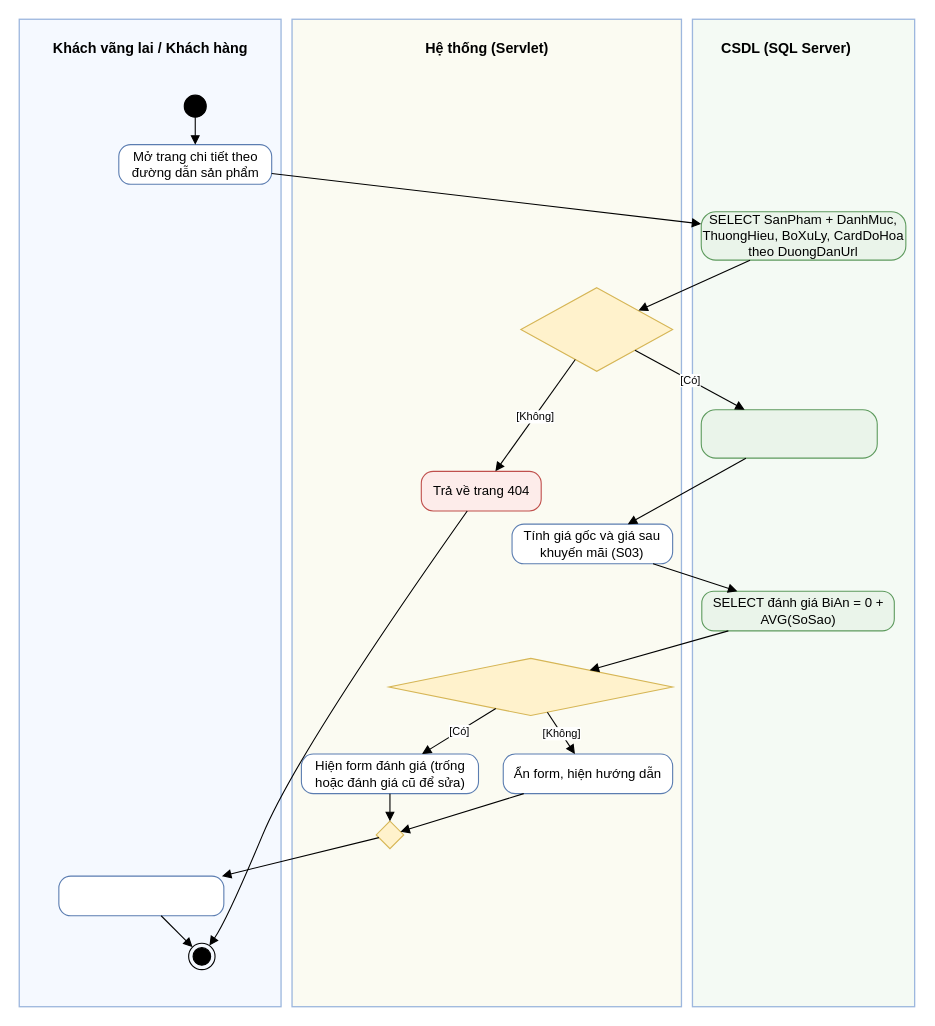
Some shapes in this 935 by 1026 pixel diagram are drawn without their labels. The shapes that lost their labels are listed below. From the top down, each one's box as (x1, y1, x2, y2) in pixels, then its label:
(520, 287, 673, 371): Tìm thấy và TrangThai = DANG_BAN?
(700, 409, 877, 458): SELECT HinhAnhSanPham ORDER BY LaAnhDaiDien DESC, ThuTu
(388, 657, 673, 716): Đã đăng nhập và có đơn DA_GIAO chứa SP?
(58, 875, 224, 916): Xem ảnh, giá, thông số, tồn kho, đánh giá
